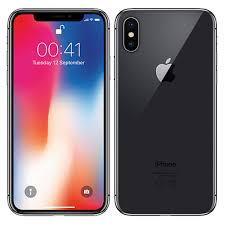iphone: (4, 5, 109, 215), (113, 5, 216, 215)
iphone10: (4, 4, 111, 217), (112, 3, 218, 217)
